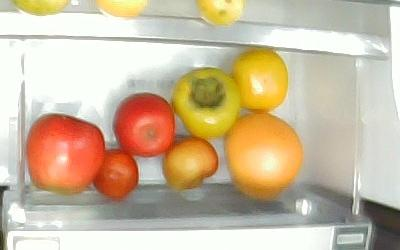apple: (24, 112, 105, 194), (111, 91, 176, 158)
grapefruit: (222, 110, 302, 197)
persimmon: (170, 66, 241, 138), (230, 49, 289, 111)
prune: (160, 133, 218, 190), (91, 147, 139, 200)
